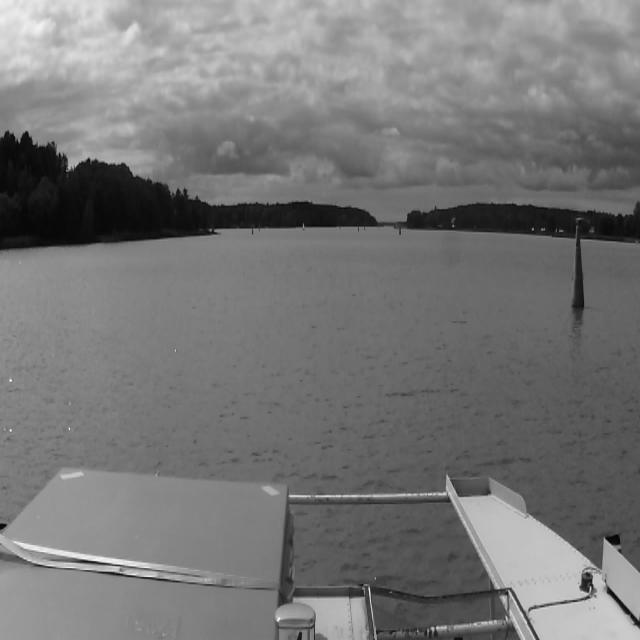buoy: (570, 226, 584, 309), (399, 227, 401, 234), (252, 228, 254, 235), (258, 226, 260, 232), (358, 226, 360, 232), (364, 226, 366, 230)
ship: (301, 221, 305, 231)
